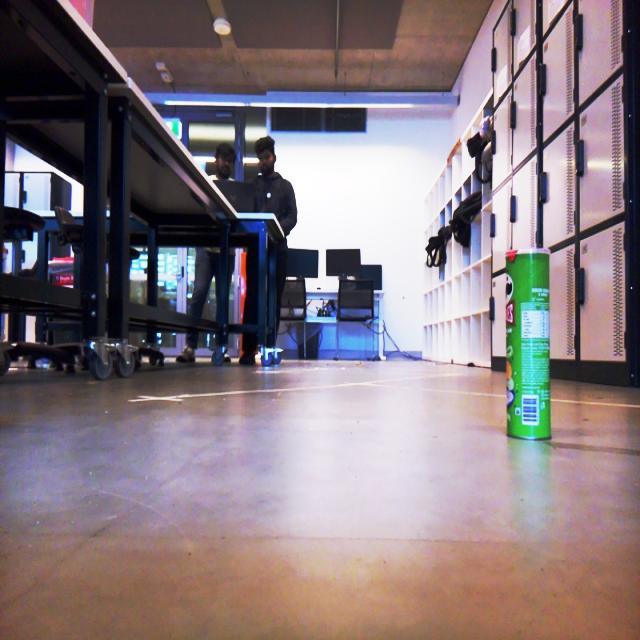greenpringles: (481, 218, 576, 468)
